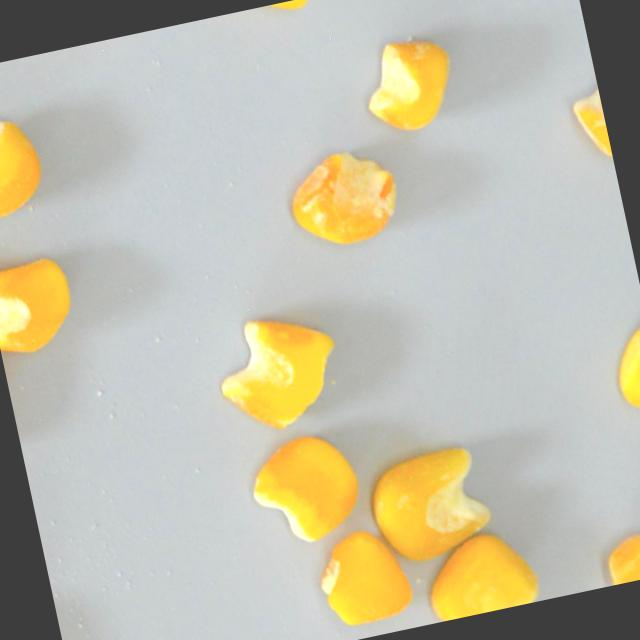dañado: (206, 301, 352, 441)
no_canjicado: (242, 425, 370, 552), (418, 522, 542, 623), (0, 252, 82, 361), (0, 111, 53, 221), (607, 322, 640, 421), (229, 0, 344, 25)
no_desgerminado: (354, 27, 464, 139), (563, 66, 613, 167)
pelicula: (361, 438, 500, 570), (280, 140, 407, 257), (584, 529, 640, 589)
